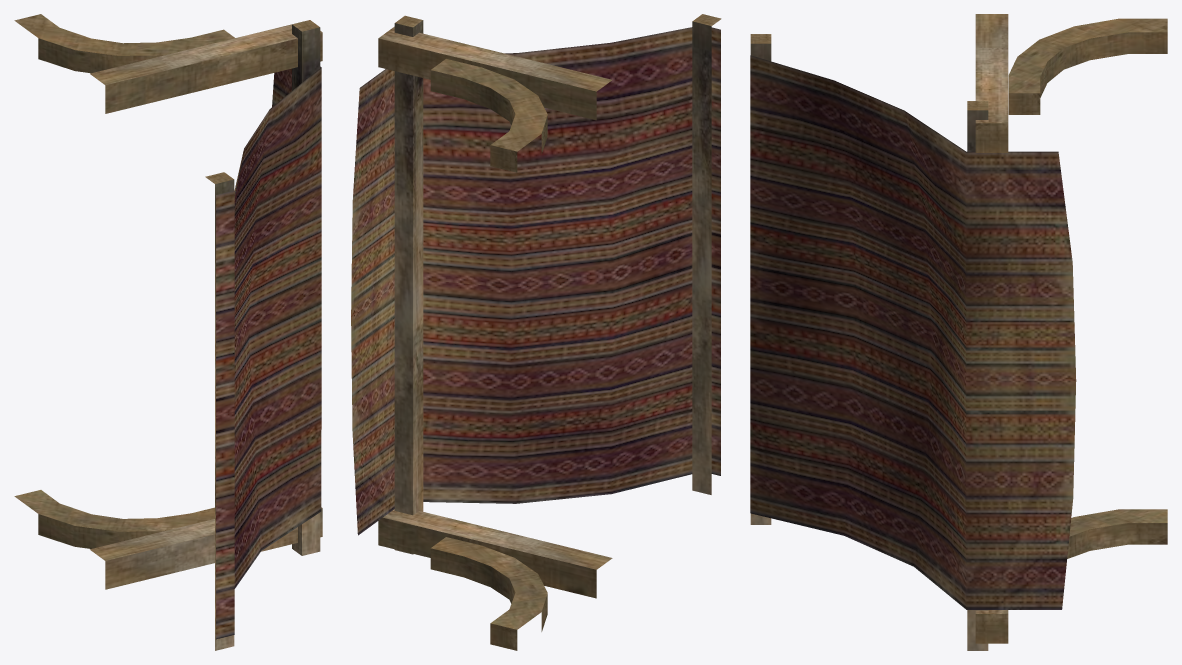
Rendered from awning_2x4_4.glb.
3 renders of one model, left to right at view 1: azimuth 30°, elevation 25°; view 2: azimuth 150°, elevation 25°; view 3: azimuth 270°, elevation 25°, orthographic. The views are drawn at different scales.
Size of the model in its own units: 24.06 by 55.49 by 38.79.
Materials: 1 (1 with a texture image).
